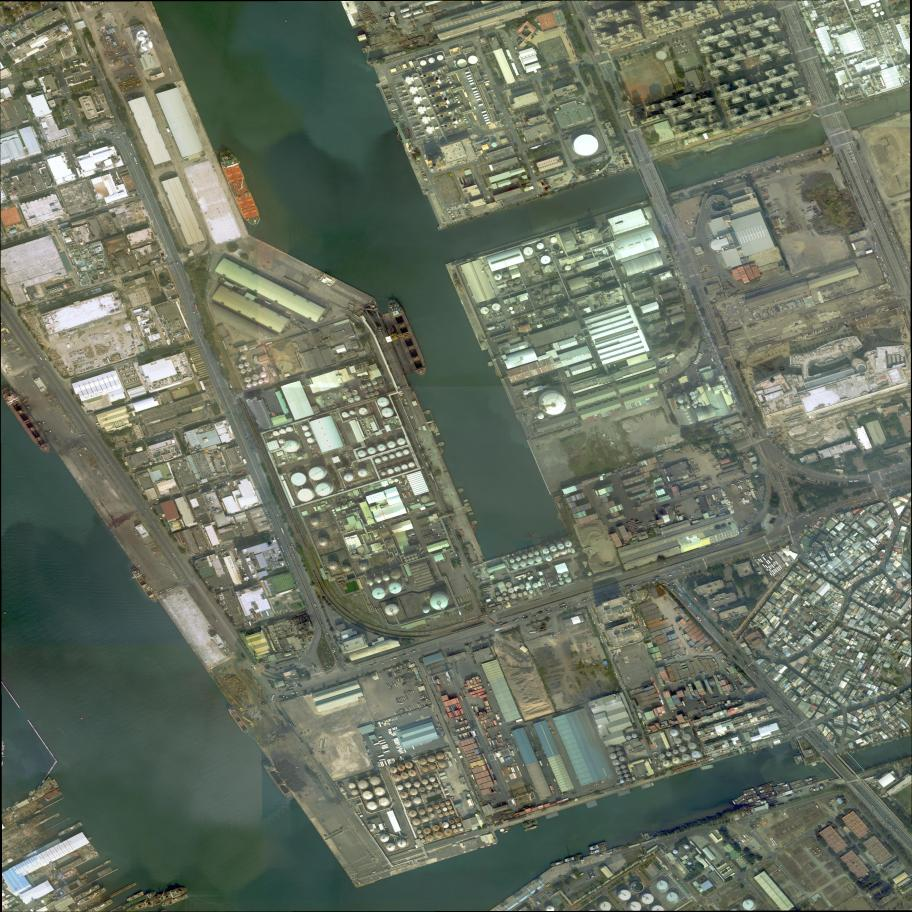large-vehicle: (782, 705, 789, 712), (523, 613, 532, 618), (805, 733, 812, 739), (724, 668, 730, 675), (745, 516, 752, 522), (738, 519, 744, 526), (745, 665, 751, 672), (702, 488, 710, 493), (740, 518, 745, 526), (298, 321, 306, 326), (753, 674, 759, 680), (662, 579, 669, 584), (772, 474, 777, 481), (327, 636, 332, 643), (330, 643, 335, 650), (124, 11, 129, 18), (97, 8, 104, 13), (756, 695, 764, 699), (630, 585, 638, 589), (281, 527, 285, 535), (134, 157, 138, 165), (198, 323, 202, 331), (378, 739, 386, 743), (500, 623, 508, 627), (893, 825, 898, 831), (341, 666, 346, 672), (38, 355, 43, 361), (42, 365, 47, 371), (513, 618, 519, 623), (735, 685, 739, 692), (575, 425, 582, 429), (739, 478, 746, 482), (291, 544, 295, 551), (334, 655, 338, 662), (530, 730, 534, 737), (522, 616, 529, 620), (380, 741, 387, 745), (383, 750, 390, 754), (378, 754, 385, 758), (788, 709, 793, 714), (308, 749, 313, 754), (641, 582, 649, 585), (652, 578, 658, 582), (711, 697, 719, 700), (560, 603, 566, 607), (330, 645, 334, 651), (245, 435, 249, 441), (327, 639, 331, 645), (319, 619, 323, 625), (314, 603, 318, 609), (279, 711, 283, 717), (121, 24, 124, 32), (160, 590, 166, 594), (173, 573, 177, 579), (420, 696, 426, 700), (407, 669, 413, 673), (400, 665, 404, 671), (417, 667, 421, 673), (401, 697, 405, 703), (381, 745, 389, 748), (374, 742, 380, 746), (381, 761, 385, 767), (384, 760, 388, 766), (391, 758, 395, 764), (386, 684, 390, 690), (395, 672, 401, 676), (410, 650, 416, 654), (575, 431, 582, 434), (626, 585, 633, 588), (714, 488, 721, 491), (407, 507, 410, 514), (381, 744, 388, 747), (382, 747, 389, 750), (776, 691, 780, 696), (669, 586, 674, 590), (652, 41, 657, 45), (697, 616, 701, 621), (751, 665, 756, 669), (334, 653, 338, 658), (288, 721, 292, 726), (299, 738, 303, 743), (388, 759, 392, 764), (378, 722, 382, 727), (393, 681, 397, 686), (396, 699, 400, 704), (746, 698, 755, 700), (397, 749, 403, 752), (192, 307, 195, 313), (190, 297, 193, 303), (166, 588, 172, 591), (407, 668, 413, 671), (414, 683, 420, 686), (415, 685, 421, 688), (405, 663, 408, 669), (532, 615, 538, 618), (390, 758, 393, 764), (387, 759, 390, 765), (388, 684, 391, 690), (394, 671, 400, 674), (391, 657, 397, 660), (752, 671, 756, 675), (888, 823, 892, 827), (172, 553, 176, 557), (332, 316, 336, 320), (399, 698, 403, 702), (793, 516, 796, 521), (568, 429, 573, 432), (292, 553, 295, 558), (249, 622, 252, 627), (338, 660, 341, 665), (399, 750, 404, 753), (400, 751, 405, 754), (400, 756, 403, 761), (404, 748, 407, 753), (422, 698, 427, 701), (409, 694, 412, 699), (380, 762, 383, 767), (393, 758, 396, 763), (384, 720, 387, 725), (553, 779, 556, 783), (739, 528, 742, 532), (157, 111, 160, 115), (403, 697, 406, 701), (379, 759, 385, 761), (398, 698, 401, 702), (392, 683, 395, 687), (854, 480, 859, 482), (872, 805, 875, 808)
ship: (215, 146, 263, 229), (384, 296, 431, 379), (0, 385, 54, 456), (262, 759, 294, 801), (130, 567, 159, 604), (121, 890, 157, 911), (226, 704, 250, 735), (77, 887, 107, 906), (73, 884, 101, 902), (58, 821, 83, 838), (85, 898, 114, 912), (161, 894, 189, 908), (35, 812, 59, 827), (740, 795, 761, 806), (126, 891, 144, 902), (756, 781, 775, 791), (588, 842, 608, 851), (564, 854, 583, 863), (759, 790, 776, 799), (589, 847, 607, 855), (773, 783, 789, 791), (550, 859, 565, 867), (760, 786, 774, 794), (776, 786, 790, 794), (791, 782, 805, 790), (524, 825, 539, 832), (796, 752, 804, 765), (734, 794, 745, 803), (743, 790, 756, 797), (804, 776, 817, 783), (790, 779, 803, 786), (745, 793, 757, 800), (499, 826, 511, 833), (736, 798, 746, 806), (743, 787, 755, 793), (793, 755, 800, 765), (52, 779, 59, 789), (807, 779, 818, 785), (501, 830, 510, 834), (480, 846, 486, 849), (486, 844, 492, 847), (492, 842, 498, 845)
storage-tank: (542, 392, 566, 415), (574, 135, 599, 156), (431, 595, 448, 610), (297, 489, 313, 502), (291, 473, 306, 486), (309, 467, 323, 480), (315, 484, 330, 496), (372, 588, 385, 600), (385, 604, 398, 616), (284, 441, 297, 452), (136, 30, 149, 41), (742, 900, 755, 911), (631, 882, 644, 893), (389, 583, 401, 594), (140, 41, 153, 51), (381, 408, 393, 418), (619, 890, 631, 900), (642, 894, 654, 904), (656, 881, 668, 891), (377, 397, 388, 407), (318, 536, 329, 546), (630, 901, 641, 911), (666, 893, 678, 902), (540, 255, 551, 264), (600, 902, 611, 911), (362, 791, 373, 800), (523, 247, 533, 256), (468, 56, 478, 65), (328, 561, 338, 570), (359, 562, 369, 571), (367, 801, 377, 810), (379, 797, 389, 806), (397, 839, 407, 848), (457, 59, 467, 68), (391, 570, 401, 579), (344, 473, 353, 482), (310, 518, 320, 526), (677, 396, 687, 404), (370, 777, 380, 785), (374, 787, 384, 795), (358, 469, 367, 477), (545, 265, 554, 273), (358, 781, 367, 789), (380, 834, 389, 842), (386, 843, 395, 851), (480, 307, 489, 315), (359, 407, 367, 415), (670, 729, 678, 737), (421, 495, 429, 503), (419, 757, 427, 765), (436, 752, 444, 760), (367, 447, 376, 454), (387, 441, 396, 448), (691, 751, 700, 758), (403, 800, 412, 807), (342, 565, 351, 572), (397, 438, 406, 445), (545, 905, 555, 911), (377, 444, 385, 451), (552, 285, 560, 292), (682, 754, 690, 761), (688, 743, 696, 750), (682, 734, 690, 741), (444, 829, 452, 836), (409, 810, 417, 817), (400, 792, 408, 799), (435, 832, 443, 839), (426, 835, 434, 842), (410, 789, 418, 796), (374, 577, 382, 584), (382, 574, 390, 581), (423, 827, 431, 834), (413, 797, 421, 804), (492, 304, 500, 311), (405, 762, 413, 769), (390, 767, 398, 774), (393, 775, 401, 782), (408, 770, 416, 777), (428, 755, 436, 762), (358, 450, 365, 457), (550, 237, 557, 244), (537, 413, 544, 420), (673, 757, 680, 764), (366, 579, 373, 586), (401, 772, 408, 779), (662, 761, 670, 767), (412, 819, 420, 825), (494, 274, 502, 280), (413, 782, 421, 788), (397, 765, 405, 771), (438, 761, 446, 767), (302, 425, 309, 431), (244, 377, 251, 383), (260, 372, 267, 378), (550, 546, 557, 552), (510, 593, 517, 599), (607, 747, 614, 753), (612, 760, 619, 766), (546, 555, 552, 562), (437, 55, 444, 61), (537, 243, 544, 249), (546, 296, 553, 302), (543, 289, 550, 295), (512, 564, 519, 570), (674, 738, 681, 744), (679, 746, 686, 752), (442, 822, 449, 828), (422, 816, 429, 822), (419, 809, 426, 815), (433, 825, 440, 831), (348, 783, 355, 789), (394, 466, 401, 472), (401, 464, 408, 470), (419, 787, 426, 793), (422, 766, 429, 772), (430, 764, 437, 770), (423, 607, 430, 613), (342, 412, 348, 418), (286, 426, 292, 432), (354, 395, 360, 401), (558, 544, 564, 550), (566, 541, 572, 547), (519, 584, 525, 590), (543, 548, 549, 554), (610, 753, 616, 759), (565, 265, 571, 271), (528, 559, 534, 565), (420, 60, 426, 66), (397, 784, 403, 790), (352, 790, 358, 796), (405, 782, 411, 788), (403, 449, 409, 455), (497, 596, 503, 602), (503, 272, 509, 278), (422, 779, 428, 785), (427, 784, 433, 790), (422, 793, 428, 799), (265, 433, 272, 438), (307, 438, 314, 443), (252, 375, 259, 380), (520, 562, 527, 567), (278, 439, 284, 444), (273, 431, 279, 436), (279, 429, 285, 434), (305, 432, 311, 437), (241, 355, 247, 360), (346, 392, 352, 397), (352, 390, 358, 395), (348, 398, 354, 403), (361, 384, 367, 389), (368, 387, 374, 392), (566, 578, 572, 583), (619, 756, 625, 761), (429, 58, 435, 63), (536, 294, 542, 299), (536, 557, 542, 562), (538, 300, 544, 305), (666, 752, 672, 757), (375, 458, 381, 463), (427, 807, 433, 812), (389, 454, 395, 459), (388, 469, 394, 474), (409, 463, 415, 468), (396, 452, 402, 457), (506, 582, 512, 587), (509, 588, 515, 593), (508, 281, 514, 286), (429, 777, 435, 782), (436, 789, 442, 794), (350, 410, 355, 415), (378, 378, 383, 383), (264, 378, 269, 383), (245, 362, 250, 367), (241, 369, 246, 374), (258, 380, 263, 385), (372, 380, 377, 385), (367, 382, 372, 387), (533, 583, 538, 588), (617, 751, 622, 756), (534, 551, 539, 556), (515, 279, 520, 284), (516, 557, 521, 562), (698, 398, 703, 403), (876, 2, 881, 7), (622, 769, 627, 774), (684, 844, 689, 849), (660, 754, 665, 759), (382, 456, 387, 461), (495, 591, 500, 596), (434, 783, 439, 788), (430, 791, 435, 796), (252, 382, 258, 386), (379, 384, 384, 388), (239, 364, 244, 368), (247, 368, 252, 372), (247, 384, 252, 388), (390, 12, 395, 16), (363, 389, 368, 393), (366, 394, 371, 398), (370, 393, 375, 397), (374, 391, 379, 395), (523, 592, 528, 596), (564, 573, 568, 578), (559, 581, 564, 585), (626, 736, 631, 740), (632, 734, 637, 738), (615, 767, 620, 771), (620, 765, 625, 769), (690, 392, 695, 396), (692, 396, 697, 400), (693, 400, 698, 404), (874, 13, 879, 17), (880, 11, 885, 15), (680, 405, 685, 409), (624, 774, 629, 778), (673, 850, 678, 854), (673, 750, 678, 754), (459, 827, 464, 831), (457, 823, 462, 827), (455, 818, 460, 822), (430, 814, 435, 818), (434, 805, 439, 809), (440, 803, 445, 807), (445, 801, 450, 805), (381, 472, 386, 476), (417, 830, 422, 834), (419, 835, 424, 839), (505, 596, 509, 601), (510, 559, 515, 563), (492, 143, 497, 147), (863, 76, 867, 80), (849, 83, 853, 87), (344, 388, 348, 392), (518, 593, 522, 597), (529, 590, 533, 594), (526, 582, 530, 586), (616, 747, 620, 751), (523, 555, 527, 559), (529, 553, 533, 557), (617, 771, 621, 775), (841, 24, 845, 28), (832, 26, 836, 30), (836, 25, 840, 29), (871, 4, 875, 8), (873, 9, 877, 13), (887, 25, 891, 29), (834, 43, 838, 47), (844, 84, 848, 88), (454, 829, 458, 833), (450, 820, 454, 824), (439, 814, 443, 818), (445, 812, 449, 816), (448, 806, 452, 810), (450, 810, 454, 814), (503, 592, 507, 596), (394, 479, 398, 483), (509, 306, 513, 310), (511, 310, 515, 314), (374, 386, 379, 389), (618, 776, 623, 779), (443, 808, 448, 811), (436, 810, 441, 813), (536, 588, 540, 591), (540, 578, 544, 581), (560, 250, 564, 253), (760, 801, 764, 804), (832, 40, 836, 43), (854, 58, 857, 62), (626, 778, 630, 781), (620, 780, 624, 783), (452, 825, 456, 828), (421, 840, 425, 843), (408, 558, 412, 561), (500, 311, 503, 315), (403, 556, 407, 559), (332, 509, 335, 512), (542, 582, 545, 585), (558, 575, 561, 578), (577, 229, 580, 232), (454, 60, 457, 63), (694, 405, 697, 408), (699, 404, 702, 407), (764, 800, 767, 803), (864, 14, 867, 17), (688, 862, 691, 865), (405, 559, 408, 562), (415, 556, 418, 559), (412, 557, 415, 560), (414, 553, 417, 556), (407, 555, 410, 558), (560, 578, 563, 580), (532, 291, 535, 293), (856, 17, 858, 20), (411, 554, 413, 557), (333, 512, 335, 514), (334, 514, 336, 516), (836, 2, 838, 4), (862, 16, 864, 18)
